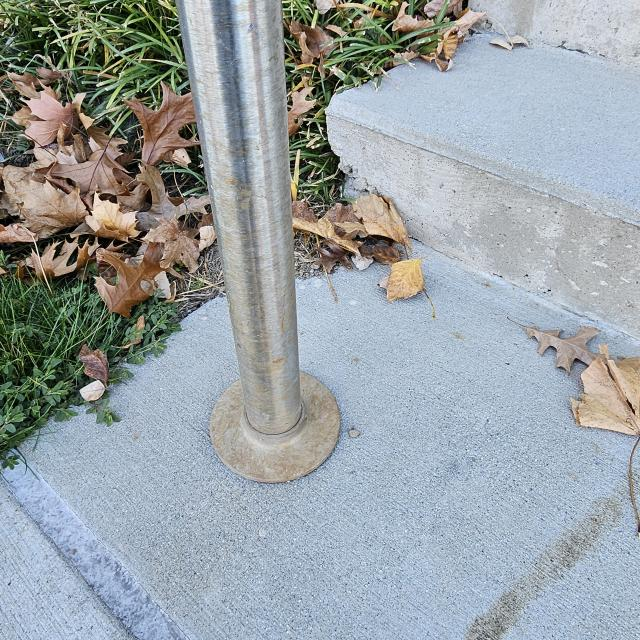Uniform Corrosion: (210, 1, 343, 484)
